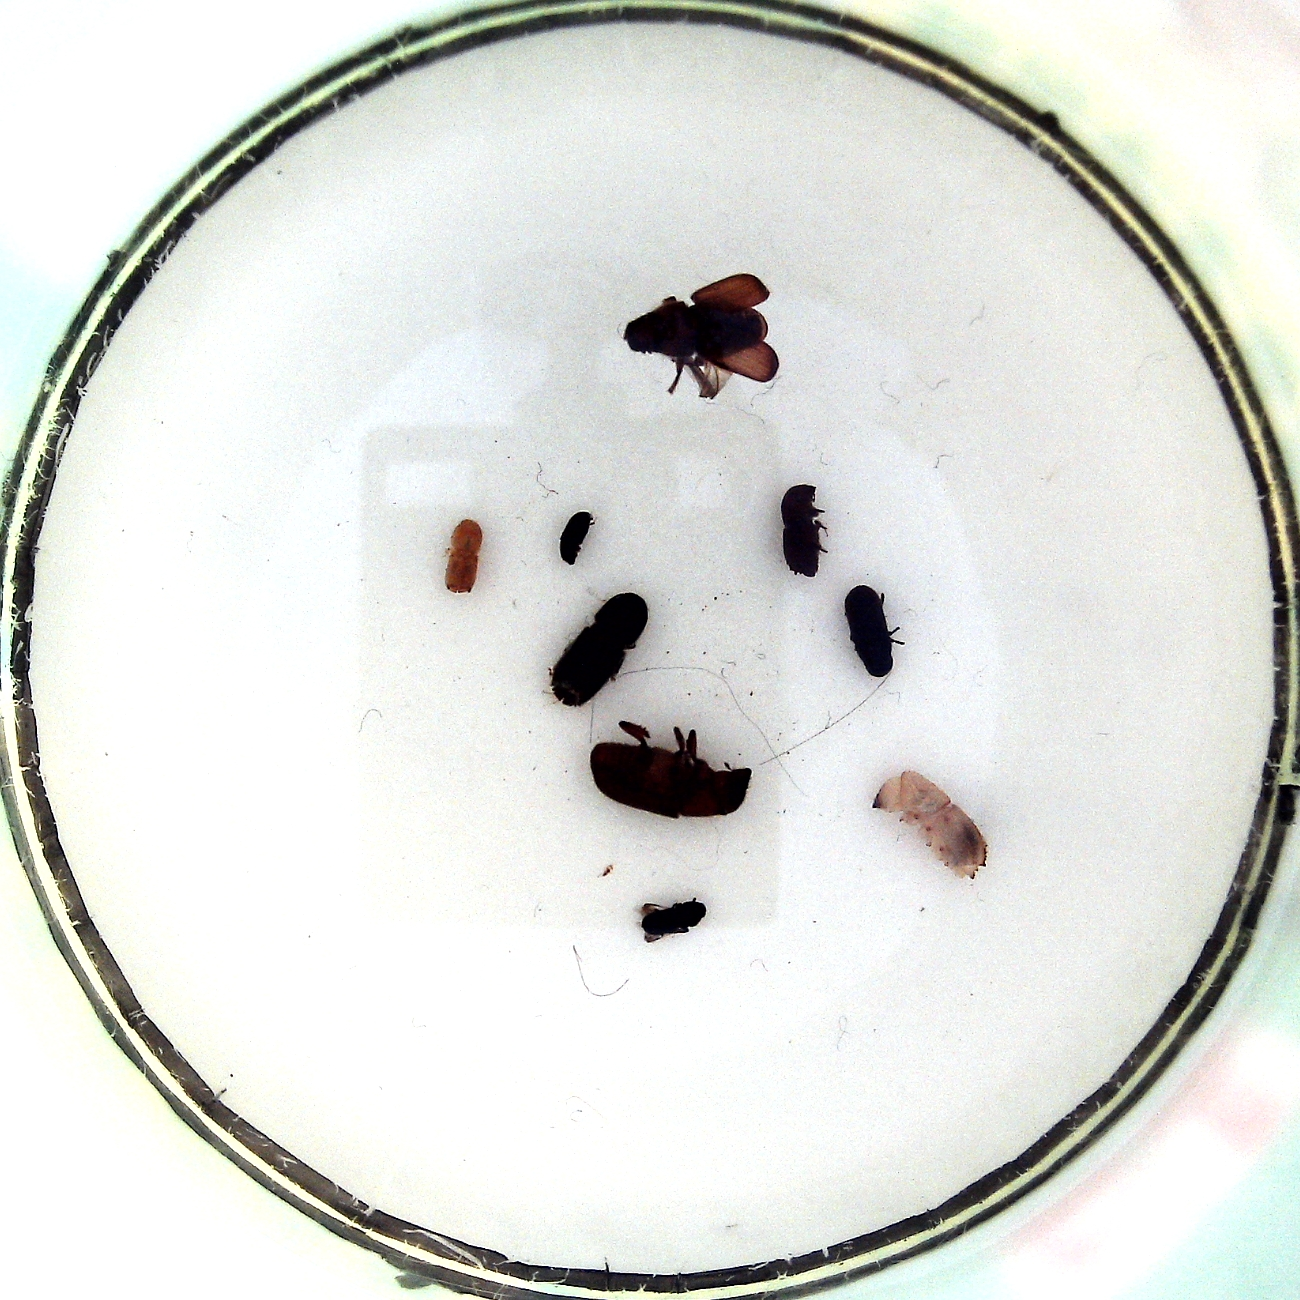Boerner: (868, 765, 993, 881)
Leconte: (615, 265, 786, 405), (585, 717, 760, 821), (540, 586, 652, 710)
Linnaeus: (779, 479, 835, 579)
acuminatus: (440, 512, 486, 596)
armandi: (840, 579, 910, 679)
coleoptera: (631, 892, 718, 946), (554, 510, 601, 565)
